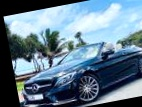car: (13, 24, 142, 107)
